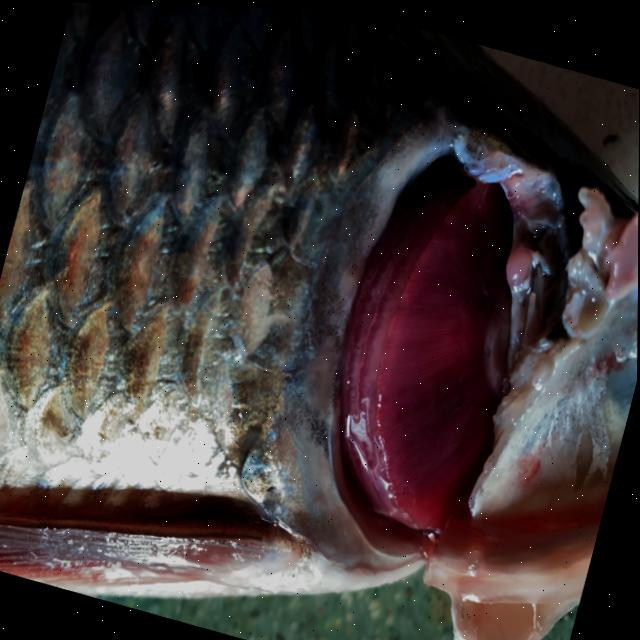Fresh: (288, 103, 585, 624)
